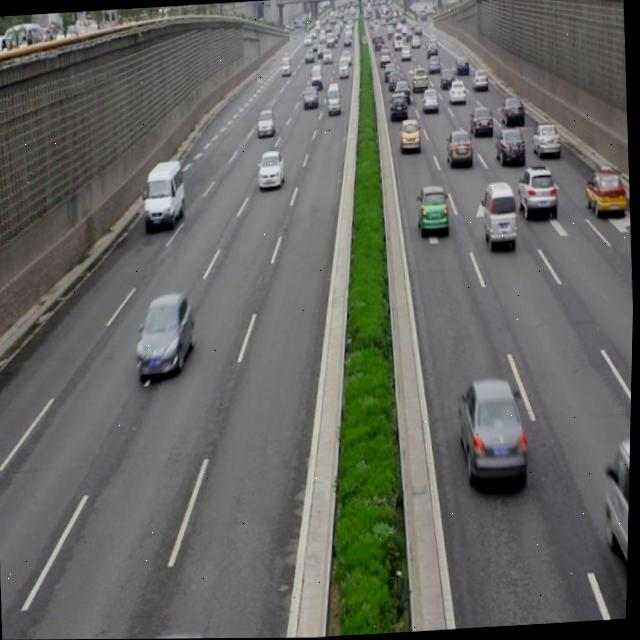car: (454, 375, 529, 488), (135, 295, 196, 377), (516, 165, 559, 222), (584, 168, 625, 219), (415, 184, 449, 239), (530, 124, 562, 161), (493, 128, 524, 166), (444, 130, 473, 170), (257, 151, 285, 189), (498, 96, 525, 128), (399, 117, 420, 155), (470, 106, 493, 135)
truck: (600, 437, 632, 619), (143, 160, 188, 228), (481, 180, 518, 253)
